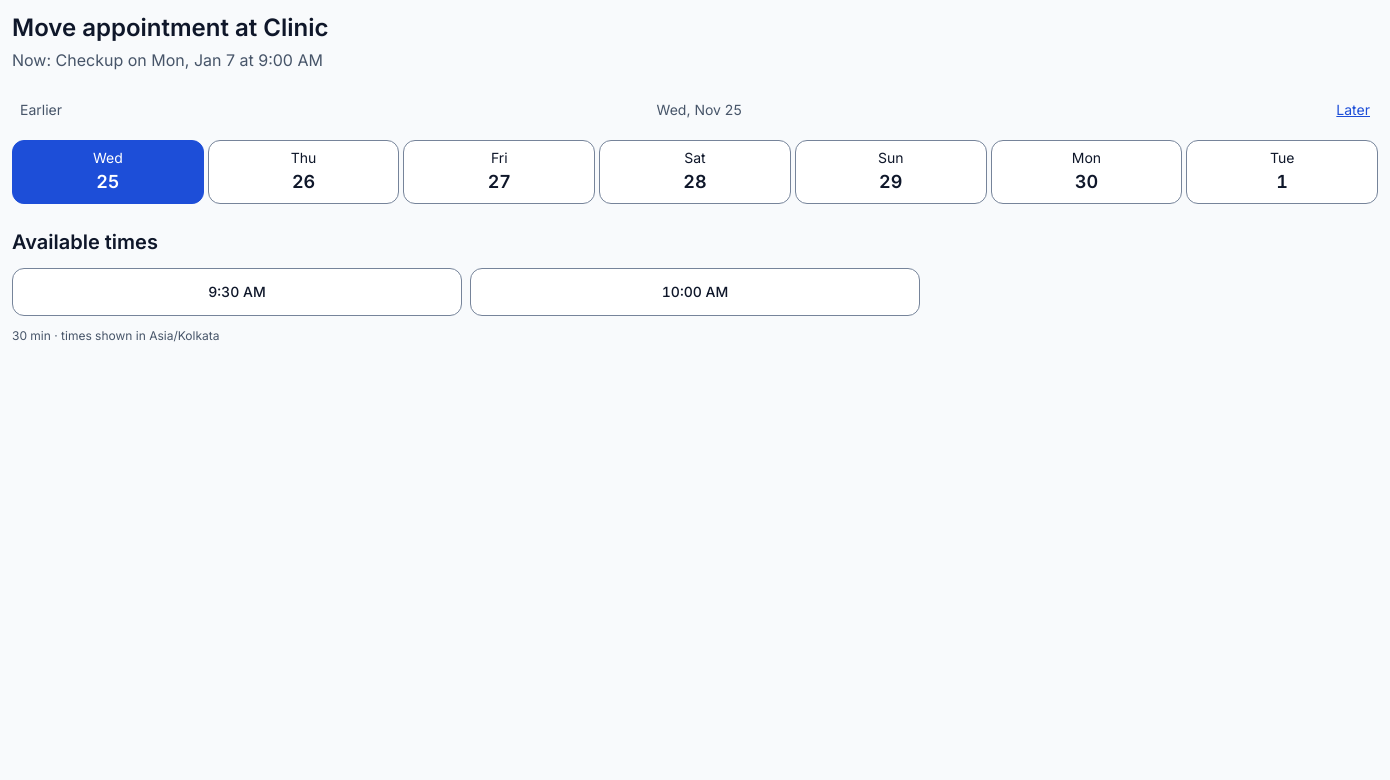
Test case: Move an appointment › SLOT_TAKEN on a move offers the next times
Click the radio button labelled "9:30 AM": (237, 292) [12,268,462,316]
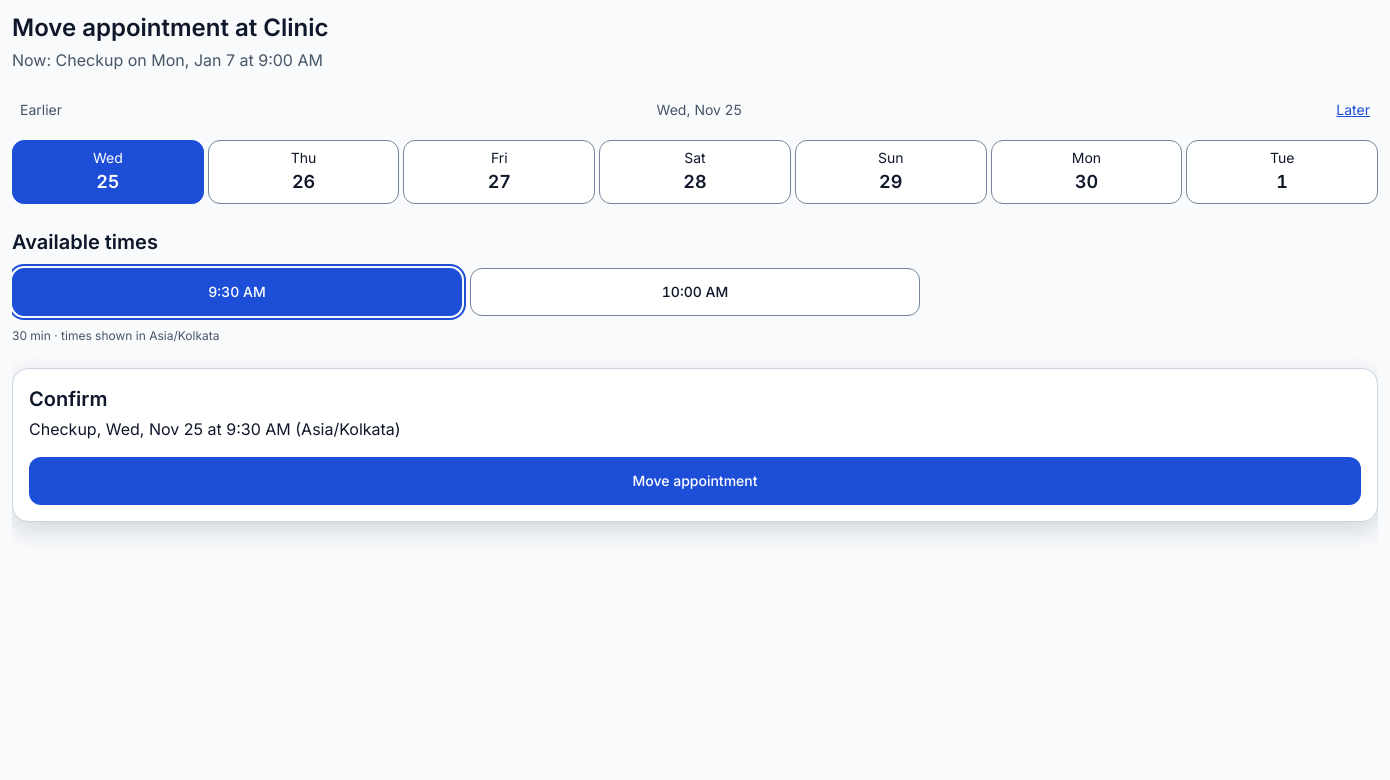
Click the button "Move appointment": (695, 481) [29,457,1361,505]
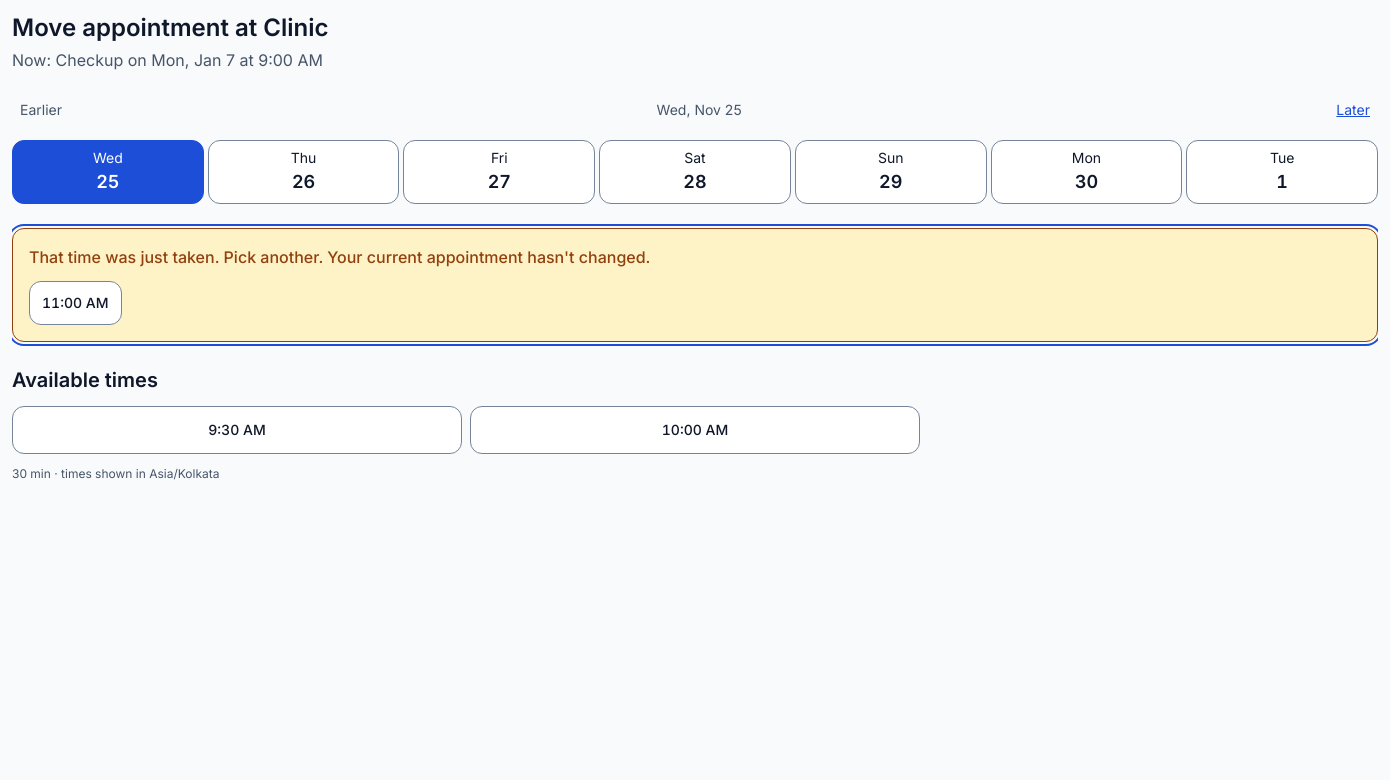
Check: the message reads "That time was just taken. Pick another. Your current appointment hasn't changed.", box [12,228,1378,342]
Check: the button "11:00 AM" is shown, box [29,281,122,325]
